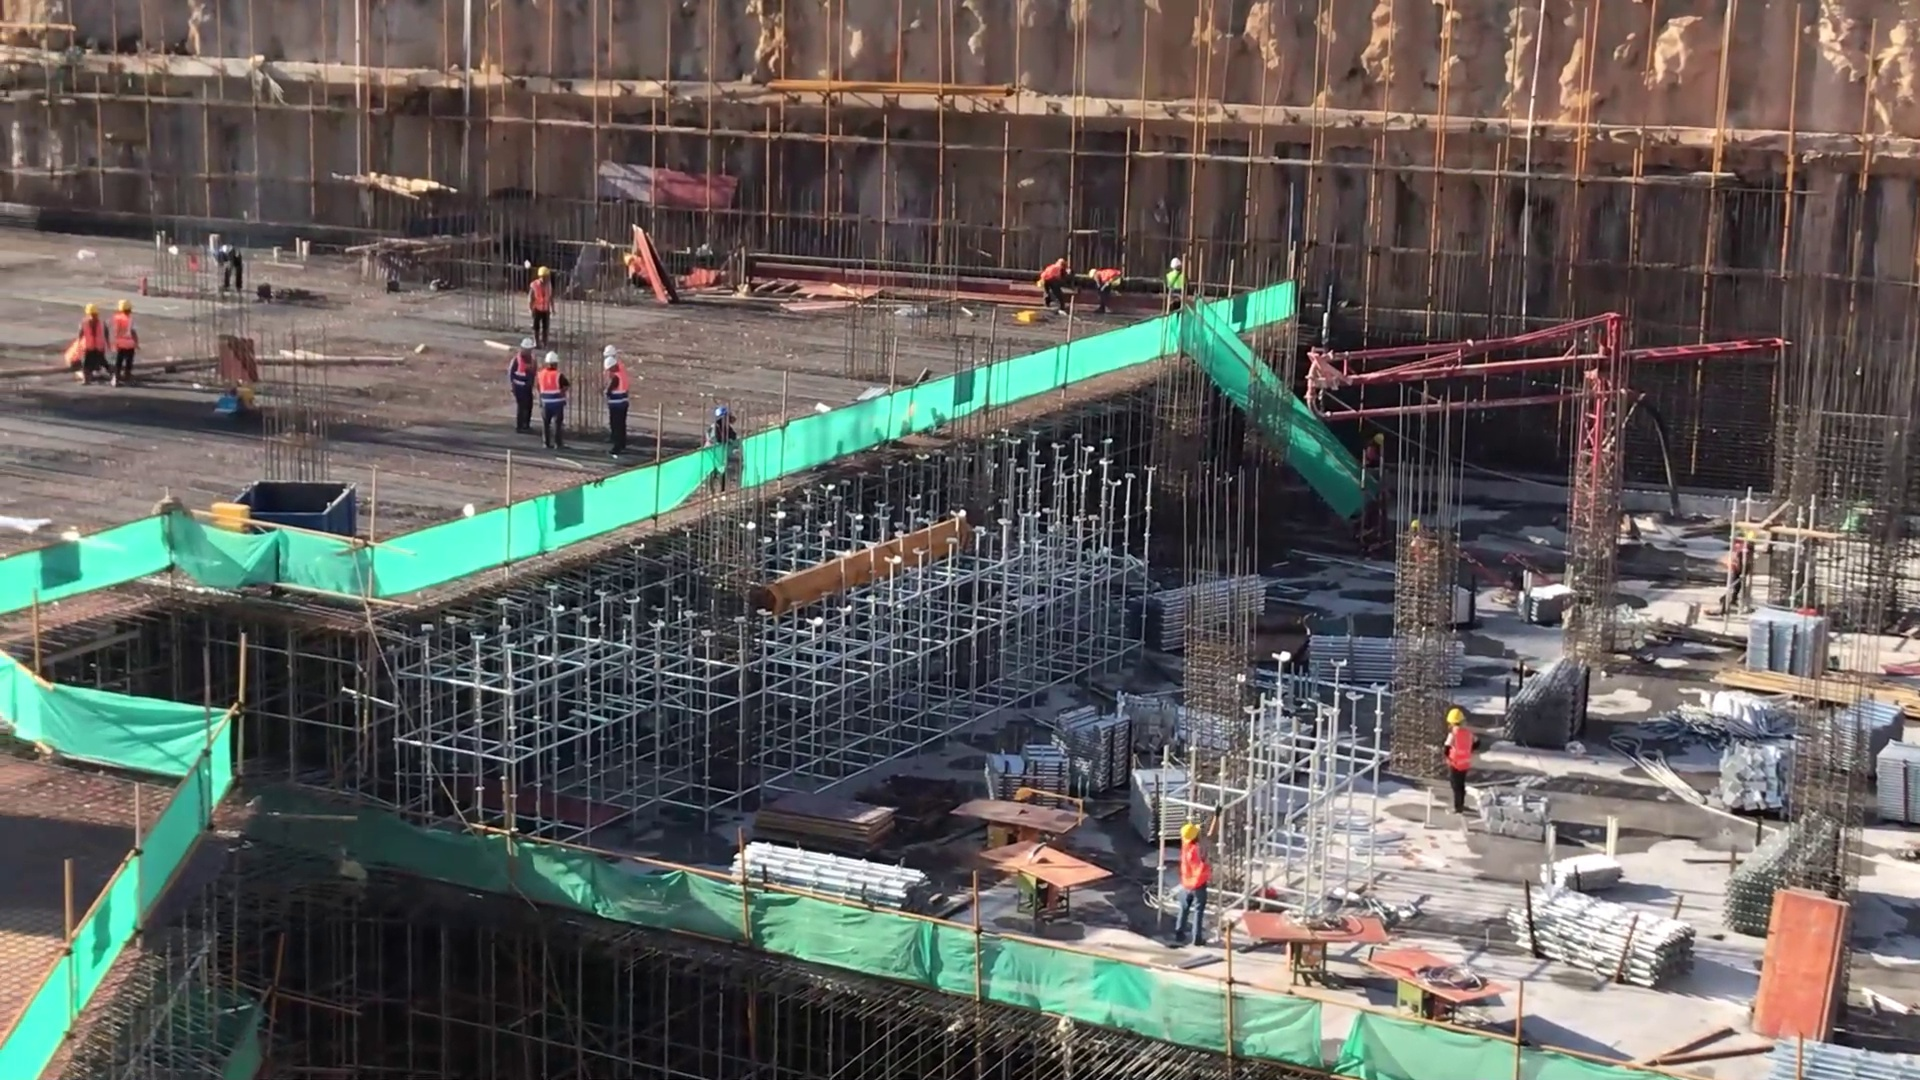board: (1234, 898, 1547, 1042), (960, 778, 1103, 922), (1760, 868, 1862, 1055), (754, 776, 893, 853)
helmet: (1439, 701, 1479, 731), (1176, 819, 1205, 846), (518, 337, 545, 362), (715, 406, 741, 427), (542, 349, 564, 369), (528, 266, 550, 286), (111, 298, 135, 317), (81, 301, 102, 321), (603, 344, 622, 362), (600, 358, 619, 377), (1166, 258, 1189, 273)
hopper: (203, 467, 384, 581)
person: (1162, 820, 1213, 943), (1441, 701, 1476, 813), (600, 356, 634, 455), (539, 353, 572, 447), (505, 332, 534, 434), (74, 305, 108, 380), (111, 293, 140, 380), (529, 262, 558, 341), (695, 397, 741, 446), (1089, 267, 1130, 318), (623, 247, 662, 297), (1038, 257, 1073, 312), (212, 244, 247, 291), (1166, 257, 1190, 314)
scaffold: (1526, 898, 1698, 1006), (729, 837, 928, 919), (1504, 652, 1605, 742), (1135, 571, 1272, 630), (1748, 604, 1828, 686), (1301, 621, 1399, 687), (1063, 709, 1133, 784), (1130, 758, 1182, 842), (1871, 733, 1913, 830), (1513, 577, 1578, 627), (991, 747, 1070, 787)
vest: (1175, 844, 1207, 897), (110, 314, 139, 353), (538, 370, 565, 407), (1451, 729, 1472, 775), (530, 281, 555, 319), (603, 368, 627, 404), (82, 323, 105, 358), (508, 356, 529, 392)
wood: (1703, 656, 1918, 735)
